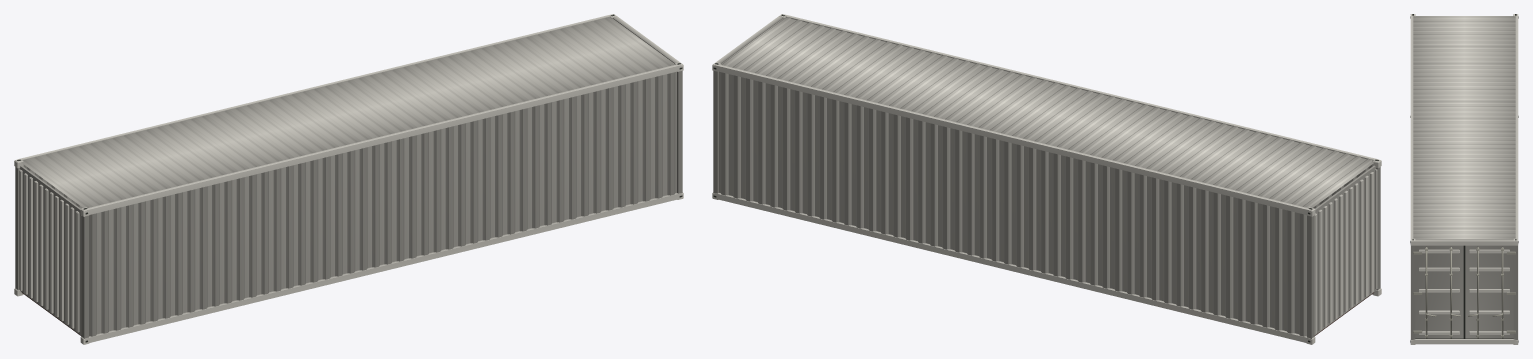
File: intermodal-container.glb
3 renders of one model, left to right at view 1: azimuth 30°, elevation 25°; view 2: azimuth 150°, elevation 25°; view 3: azimuth 270°, elevation 25°, orthographic. The views are drawn at different scales.
Parts seen in each view (by area): view 1: Frame; view 2: Frame; view 3: Frame, DoorPort, DoorStarboard.
Boxes of the visible parts, x1=… form: Frame: x1=14, y1=14, x2=683, y2=344; Frame: x1=712, y1=14, x2=1381, y2=344; Frame: x1=1410, y1=14, x2=1518, y2=344; DoorPort: x1=1413, y1=245, x2=1464, y2=338; DoorStarboard: x1=1464, y1=245, x2=1515, y2=338.
Bounding box in the file's own units: 12.23 × 2.61 × 2.45.
Materials: 4 (1 with a texture image).
